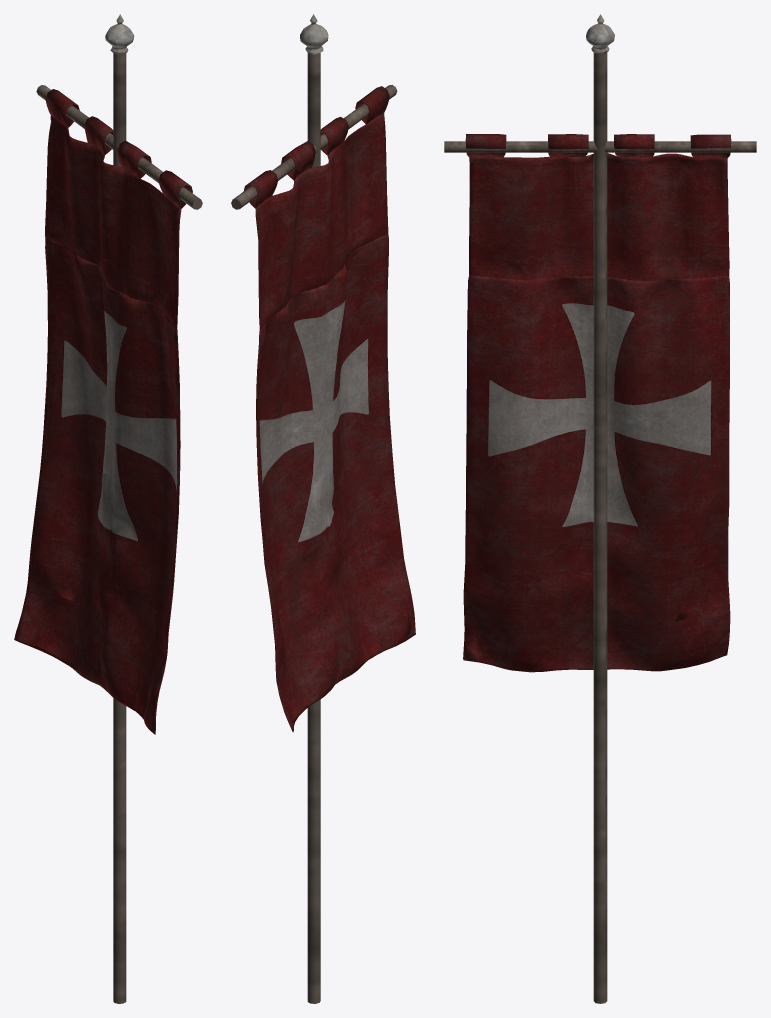
Rendered from Flag_A_Long_001.fbx.
The picture shows the model from 3 angles, left to right: view 1: azimuth 30°, elevation 25°; view 2: azimuth 150°, elevation 25°; view 3: azimuth 270°, elevation 25°; orthographic projection.
Parts seen in each view (by area): view 1: Flag_A_Long_001; view 2: Flag_A_Long_001; view 3: Flag_A_Long_001.
Boxes of the visible parts, x1,y1,x2,y2 form: Flag_A_Long_001: [14, 14, 202, 1003]; Flag_A_Long_001: [231, 14, 415, 1003]; Flag_A_Long_001: [444, 14, 756, 1003].
Size of the model in its own units: 29.5 by 508 by 146.
1 material, 1 textured.
